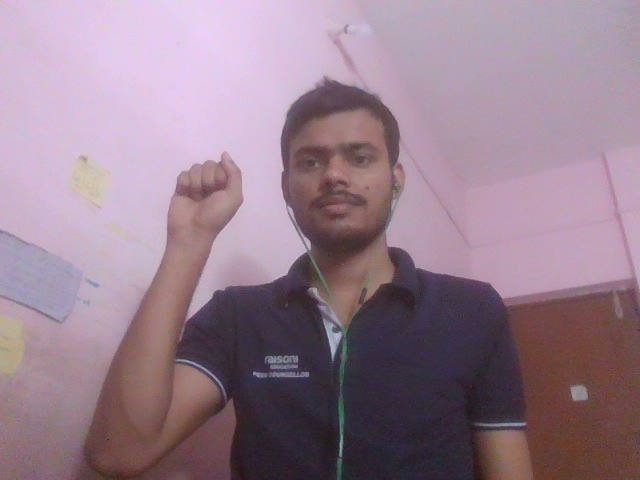Yes: (103, 119, 286, 324)
